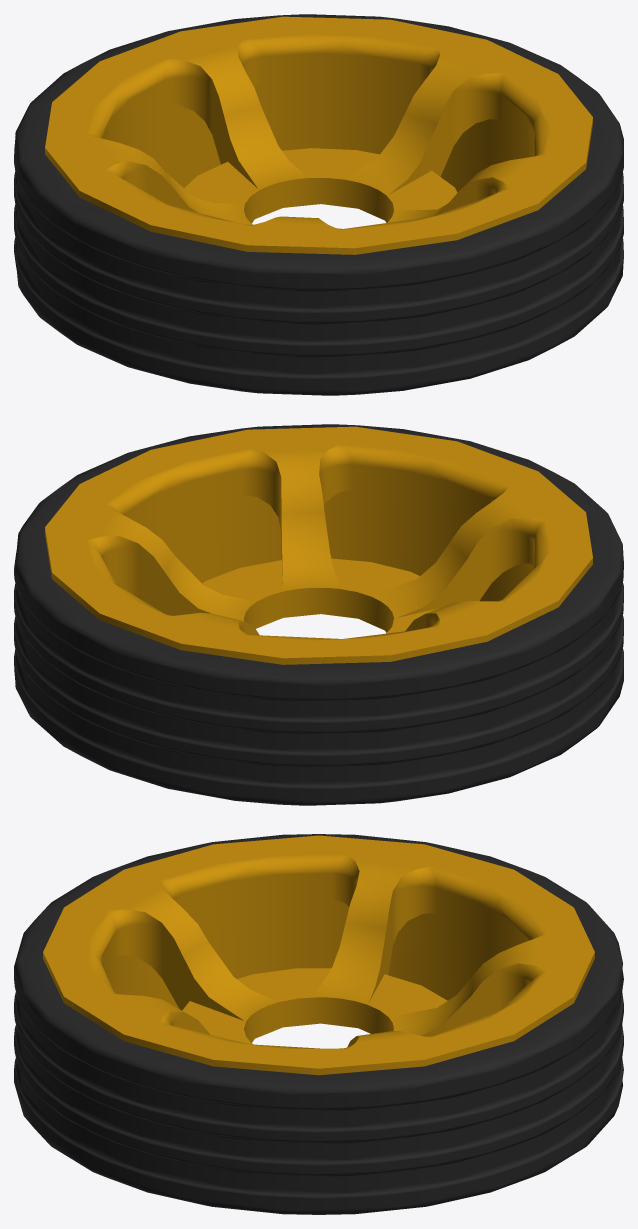
The model's file is wheel_v1_1_mesh.obj.
3 views of the same model, one above another, from view 1: azimuth 30°, elevation 25°; view 2: azimuth 150°, elevation 25°; view 3: azimuth 270°, elevation 25° (orthographic).
Parts seen in each view (by area): view 1: Body3, Body1; view 2: Body3, Body1; view 3: Body3, Body1.
Part boxes in pixels (bbox=[...]): Body3: bbox=[45, 16, 592, 254]; Body1: bbox=[14, 14, 623, 395]; Body3: bbox=[45, 426, 592, 664]; Body1: bbox=[14, 424, 623, 805]; Body3: bbox=[43, 835, 594, 1075]; Body1: bbox=[14, 834, 623, 1214].
Bounding box in the file's own units: 0.042 × 0.011 × 0.042.
